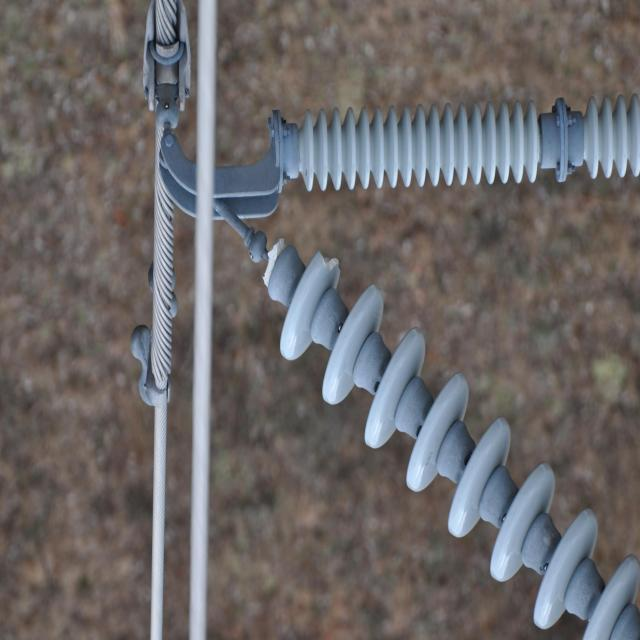broken: (259, 233, 287, 291), (316, 244, 344, 283)
insulator: (261, 236, 638, 640), (300, 88, 640, 195)
